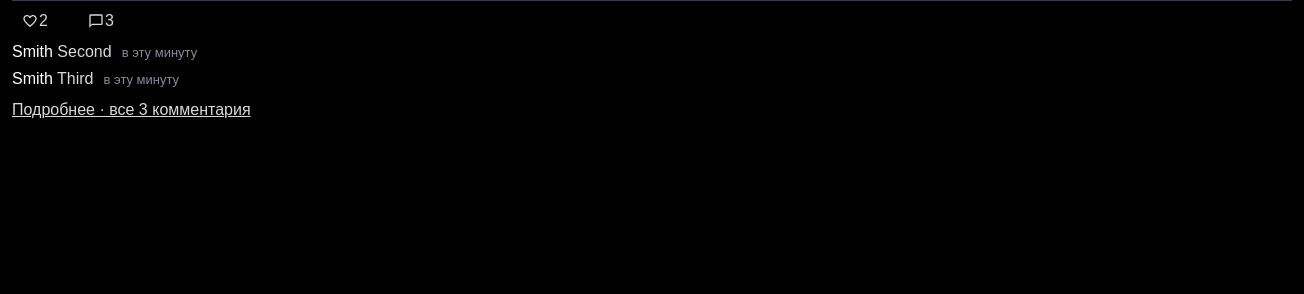
Scenario: ActivitySocial › shows the two newest comments and opens the whole thread with a form
Later steps or results of the test are not shown.
Expected: the text "Second" is shown, [57,43,112,60]
Expected: the text "First" is not shown
Click the button "Подробнее · все 3 комментария" at (131, 110), box [12,101,251,119]
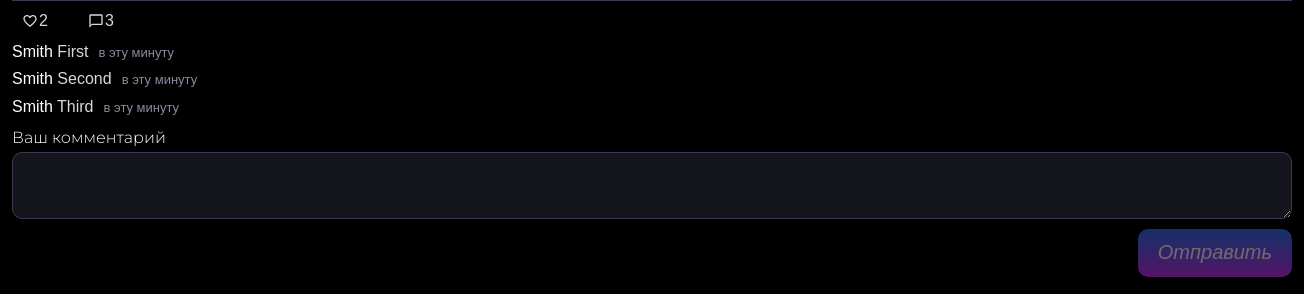
Expected: the text "First" is shown, [57,43,88,60]
